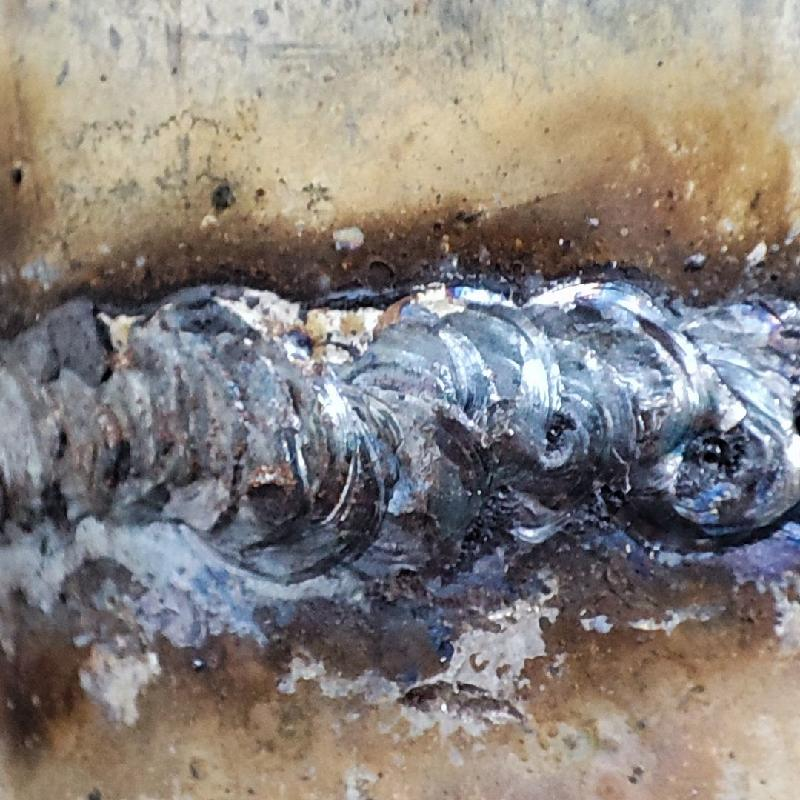Surface_pores: (683, 424, 738, 472), (530, 415, 579, 457)
good: (1, 296, 799, 553)
